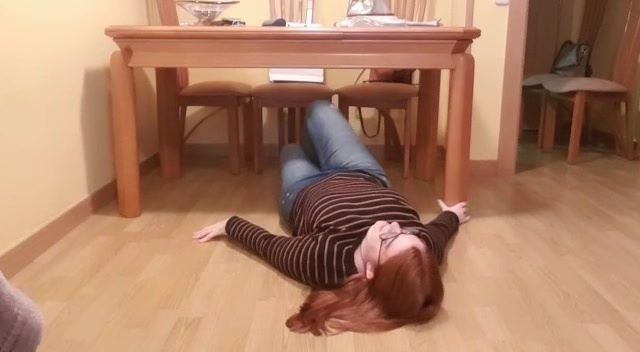fall: (195, 97, 476, 325)
